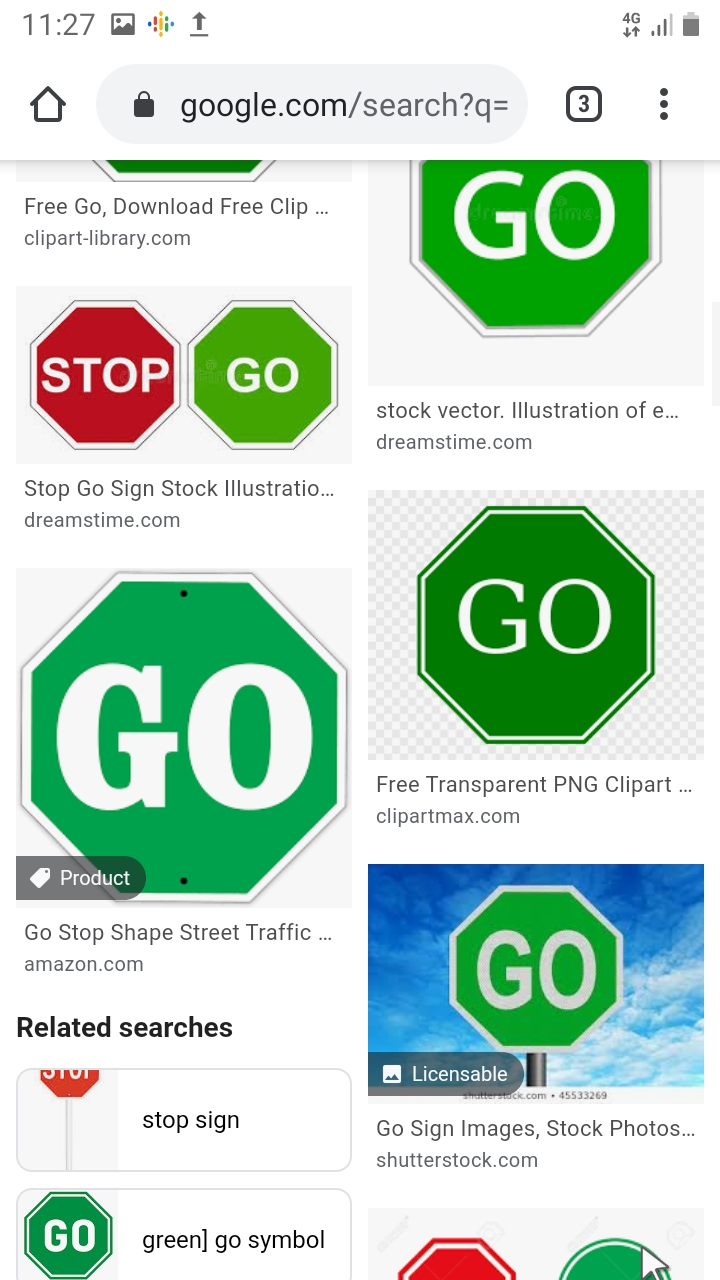go: (13, 557, 349, 872), (392, 498, 662, 761), (394, 166, 680, 355), (439, 876, 647, 1057), (192, 266, 355, 463), (11, 1184, 120, 1280)
stop: (19, 286, 186, 470)
